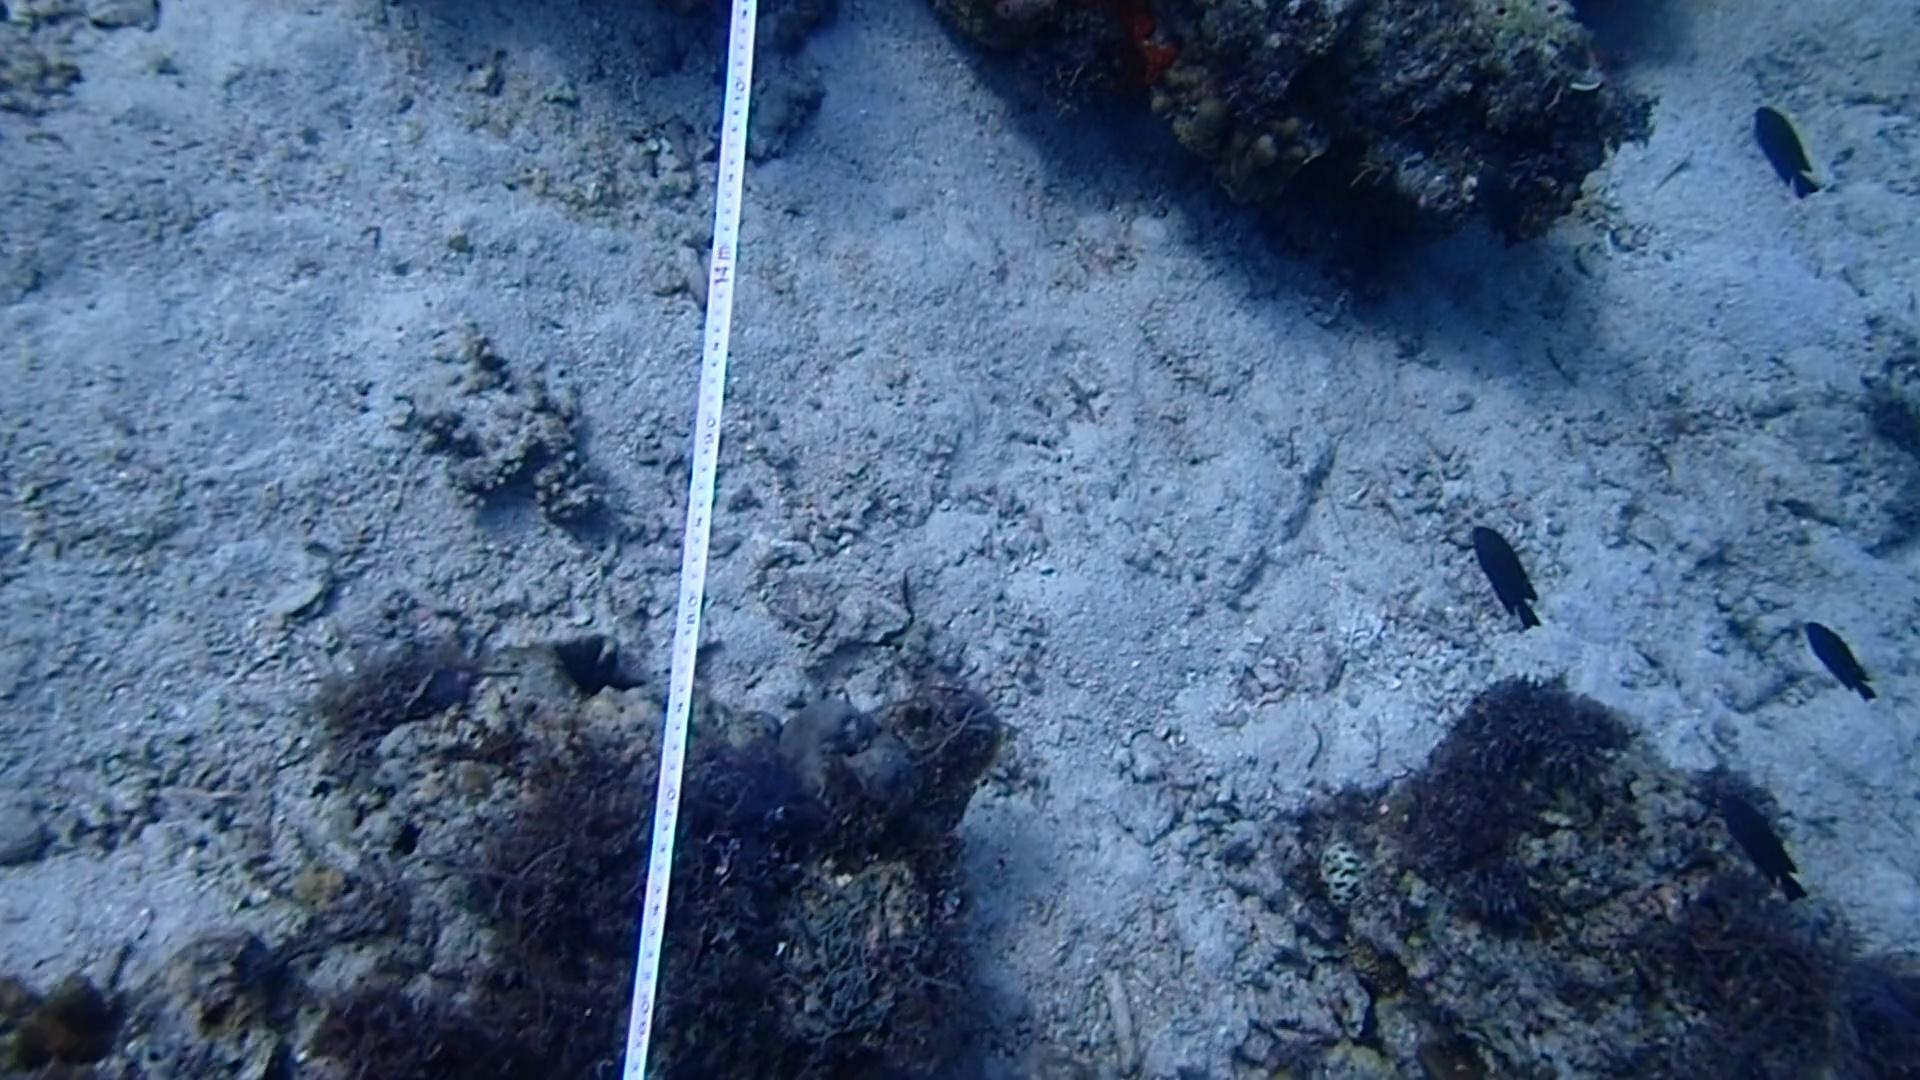Dark Fish: (1708, 781, 1820, 916), (1453, 510, 1547, 634), (1791, 605, 1886, 717), (1745, 95, 1825, 210)
